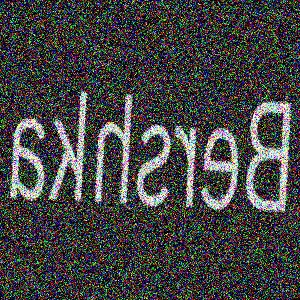bershka: (292, 39, 295, 117)
